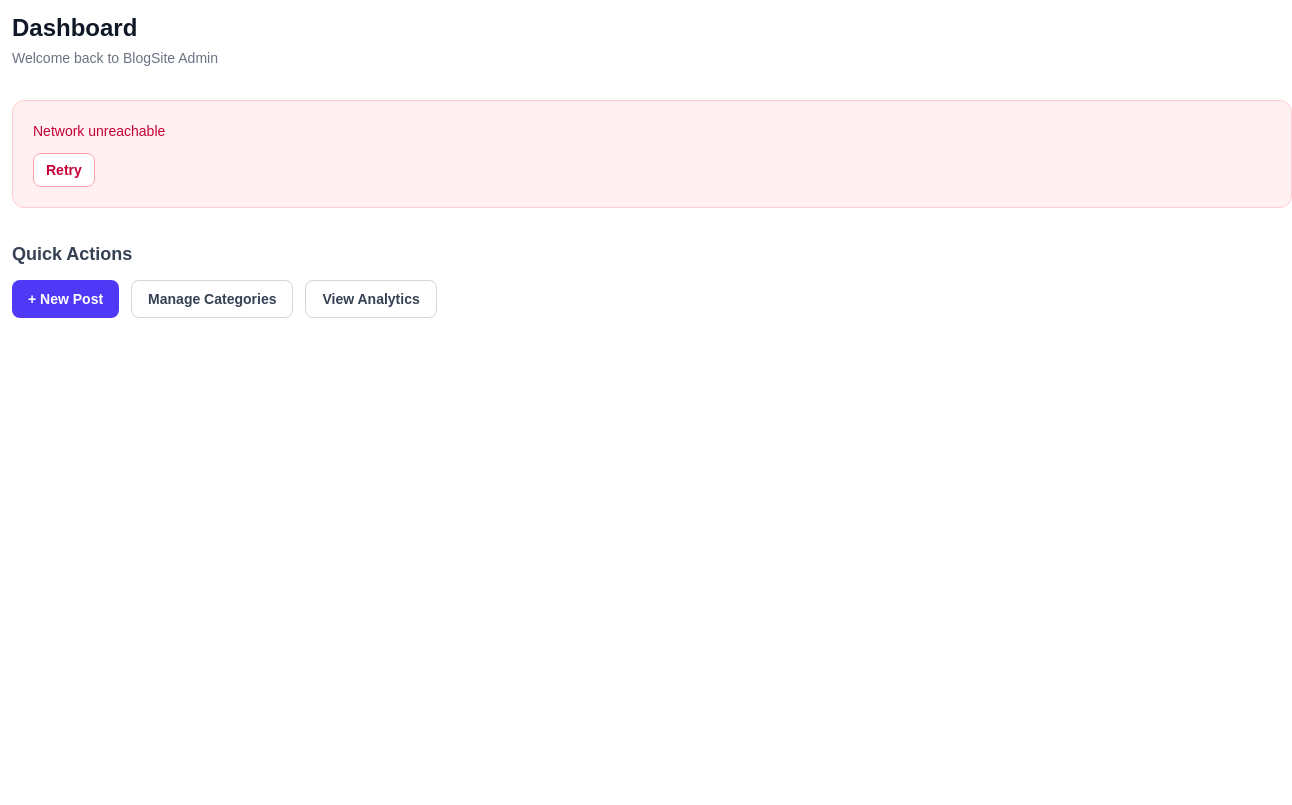
Test case: DashboardPage › retries the summary request when Retry is clicked
The image size is (1292, 805).
Expected: the message "Network unreachable Retry" is shown, [12, 100, 1291, 208]
What coordinates should you click on to do the following:
click the button "Retry"
I would click on:
 (64, 170)
Its box is [33, 153, 95, 187].
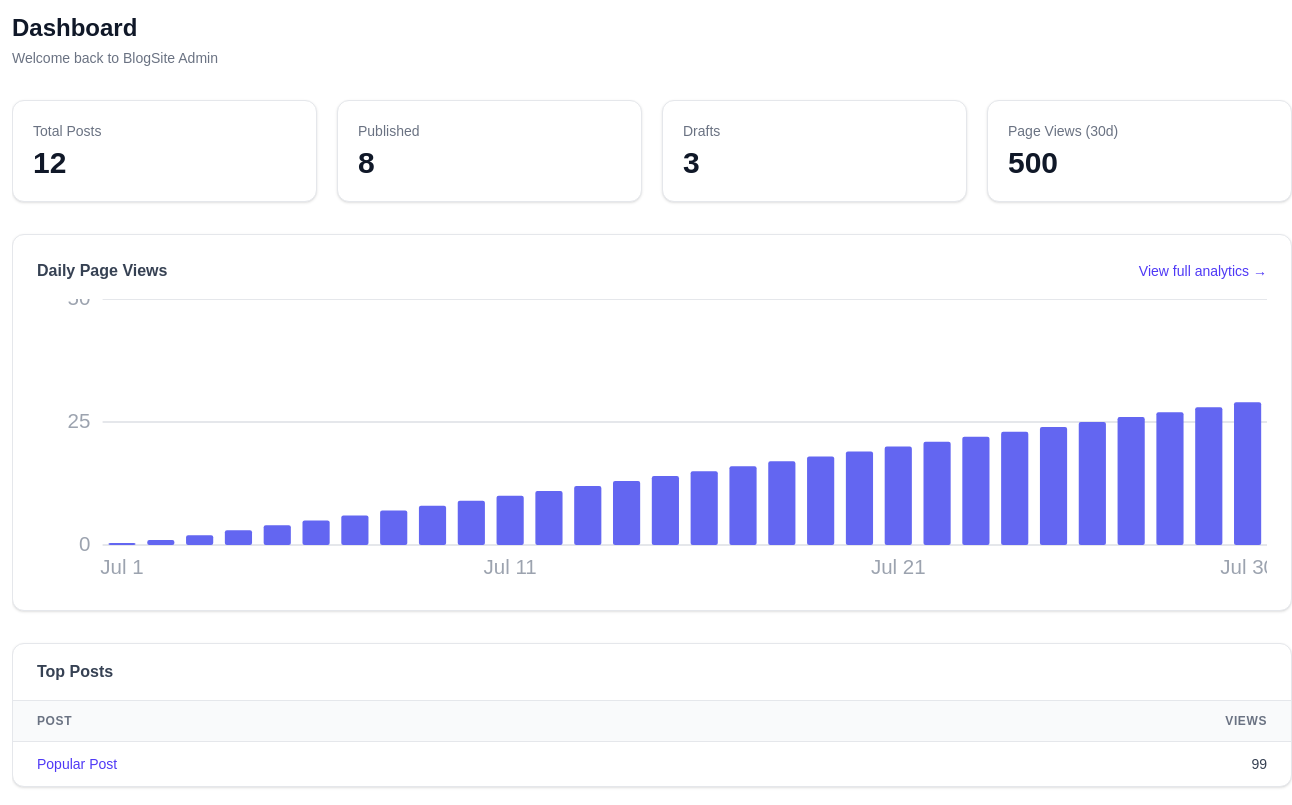
Now the link "Published 8" is shown, box [337, 100, 642, 202]
